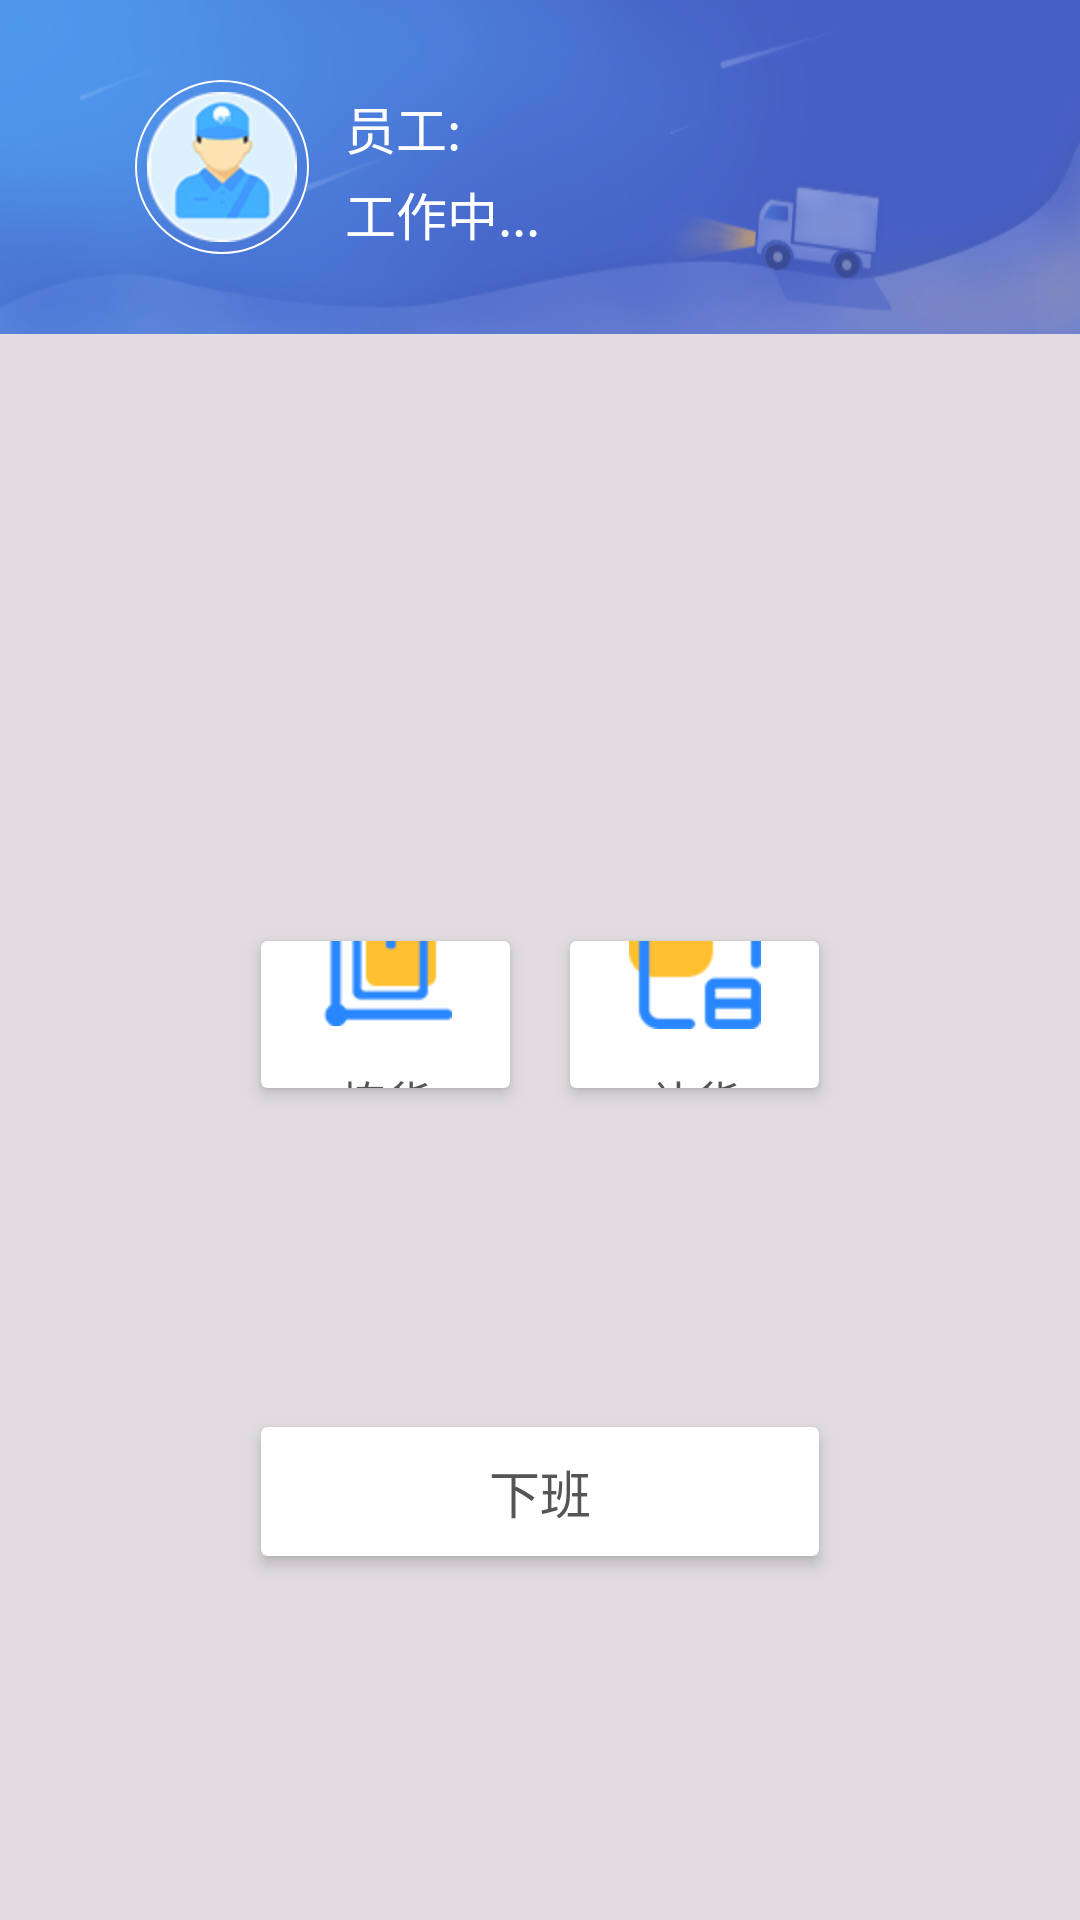

Icons on this 1080 x 1920 Android screen, each with its box as [x1=x1, y1=y1, x2=x2, y2=y2]:
task selection profile ring: [x1=135, y1=80, x2=309, y2=254]
